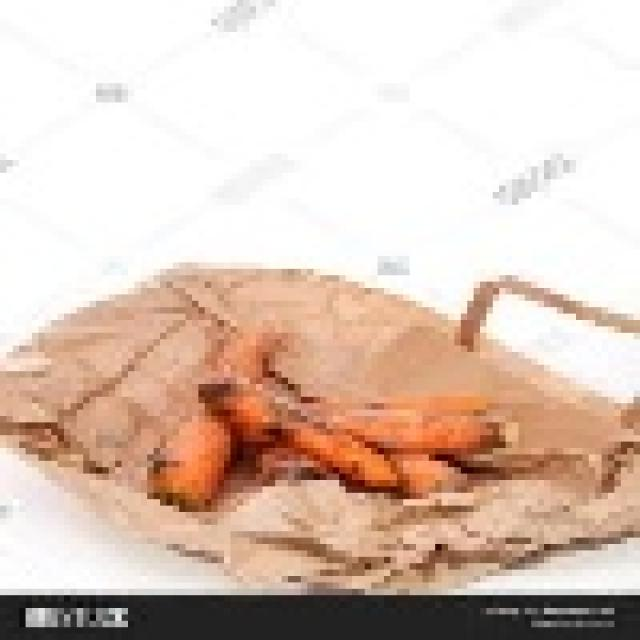Stale_Carrot: (247, 394, 488, 521)
